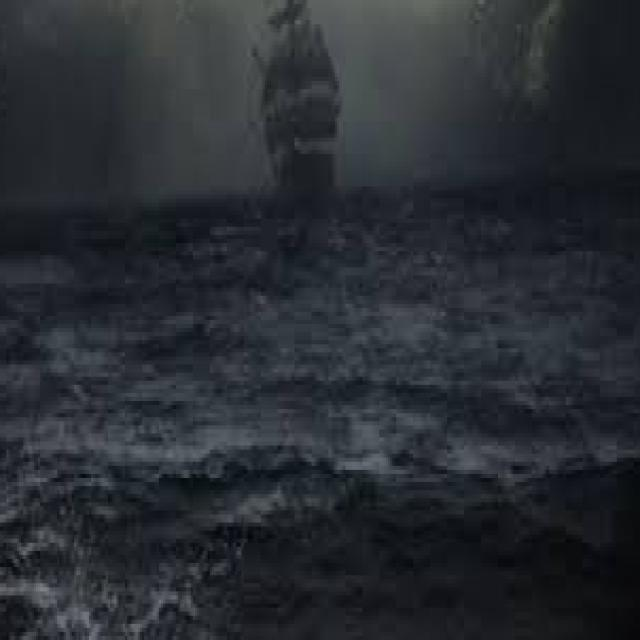navalvessels: (246, 2, 354, 220)
